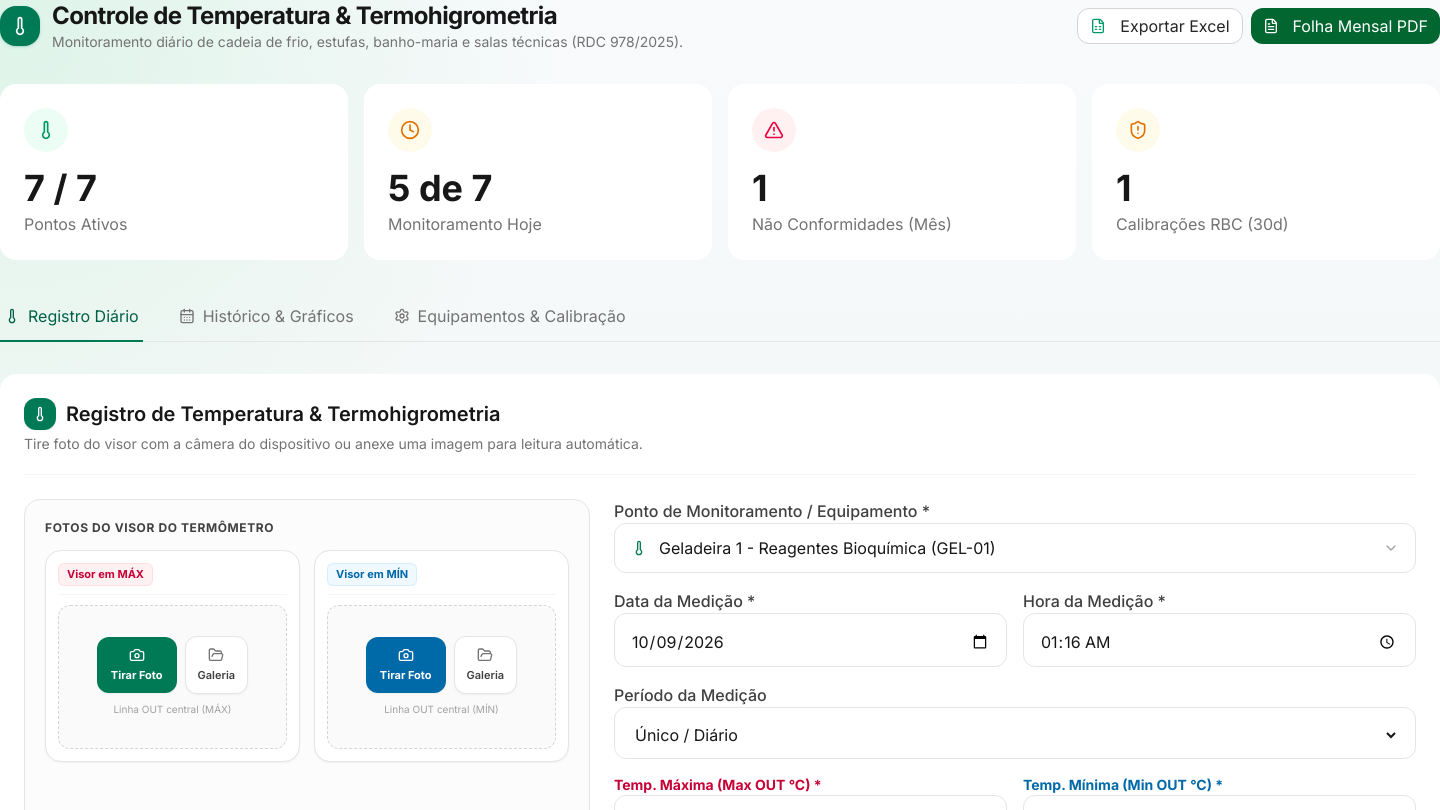
Test case: TemperaturaTab › permite alternar para a aba Equipamentos & Calibração
Click the button "Equipamentos & Calibração". click: (510, 317)
box: left=390, top=292, right=630, bottom=342
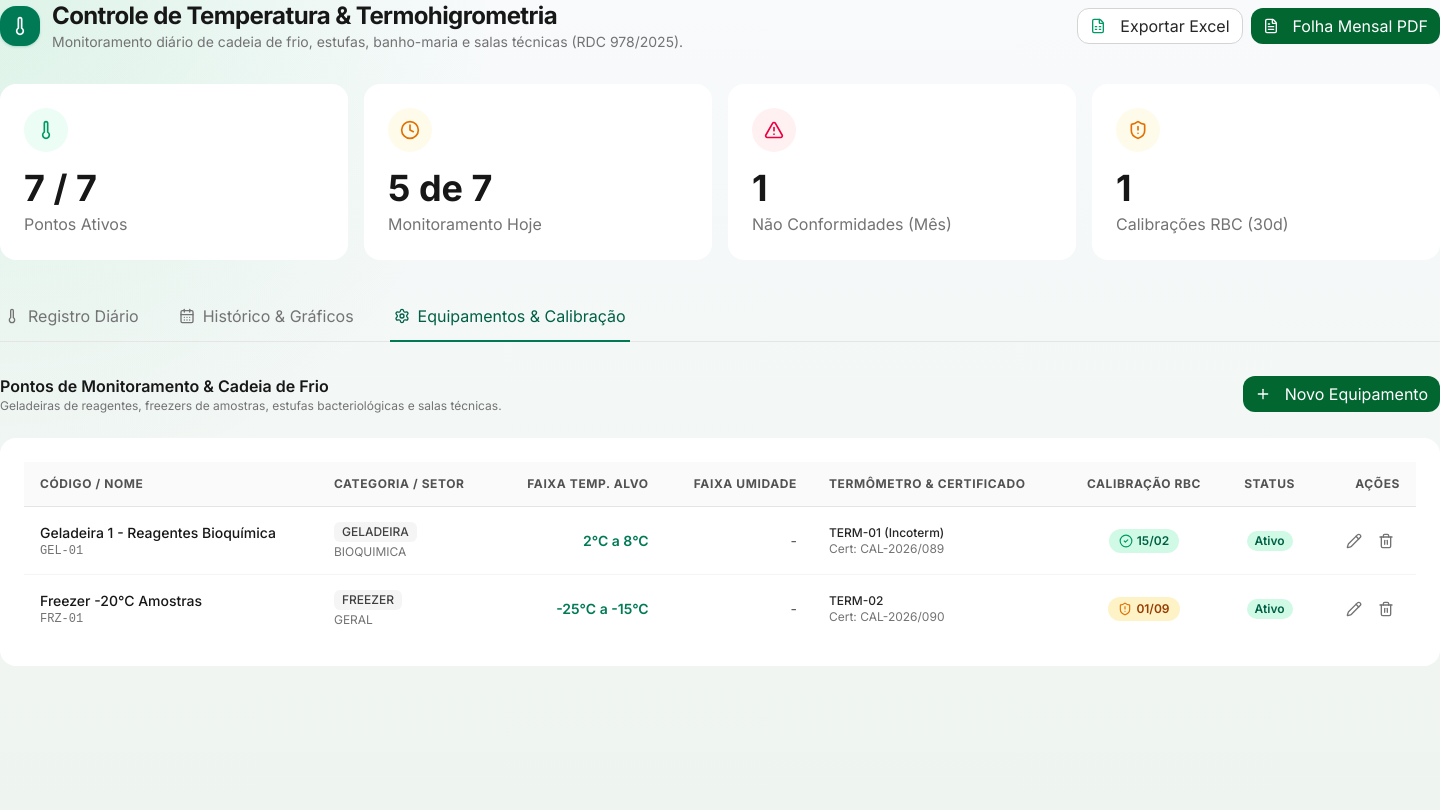
Expected: the heading "Pontos de Monitoramento & Cadeia de Frio" is shown, left=0, top=376, right=329, bottom=396
Expected: the text "Geladeira 1 - Reagentes Bioquímica" is shown, left=40, top=522, right=302, bottom=542
Expected: the text "Freezer -20°C Amostras" is shown, left=40, top=592, right=202, bottom=608
